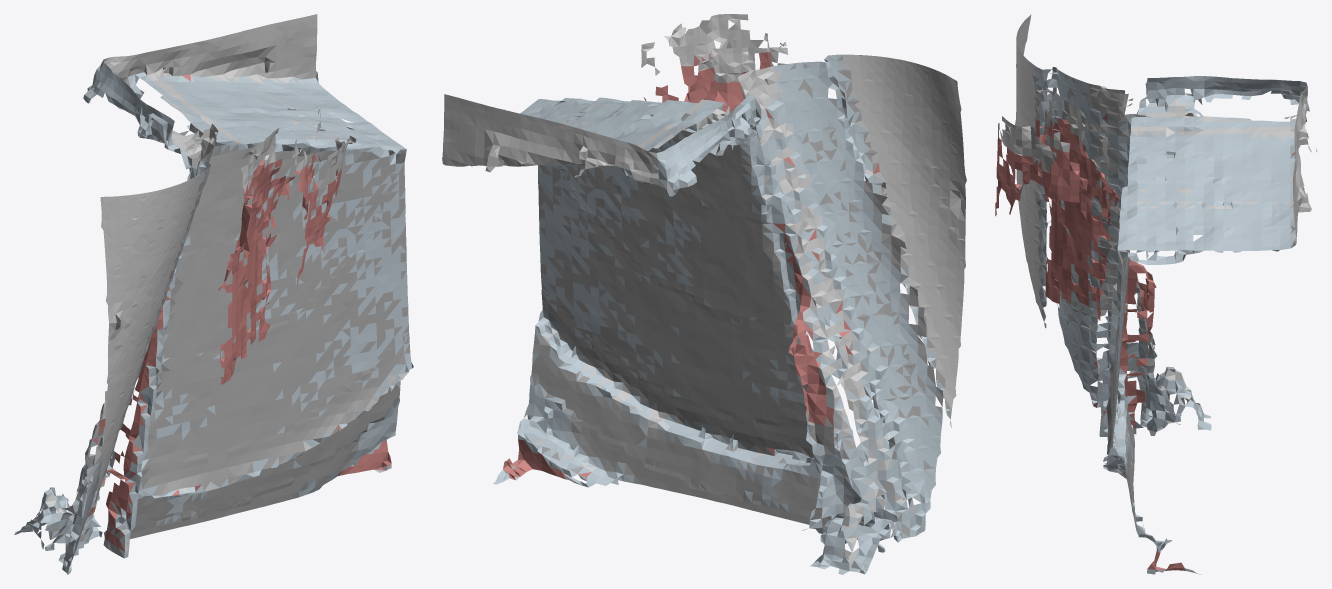
File: R1-뜬면-1__lt_dynnow_ALS_s0__after.glb
The picture shows the model from 3 angles, left to right: view 1: azimuth 30°, elevation 25°; view 2: azimuth 150°, elevation 25°; view 3: azimuth 270°, elevation 25°; orthographic projection. The views are drawn at different scales.
Bounding box in the file's own units: 33.44 × 36.41 × 26.94.
